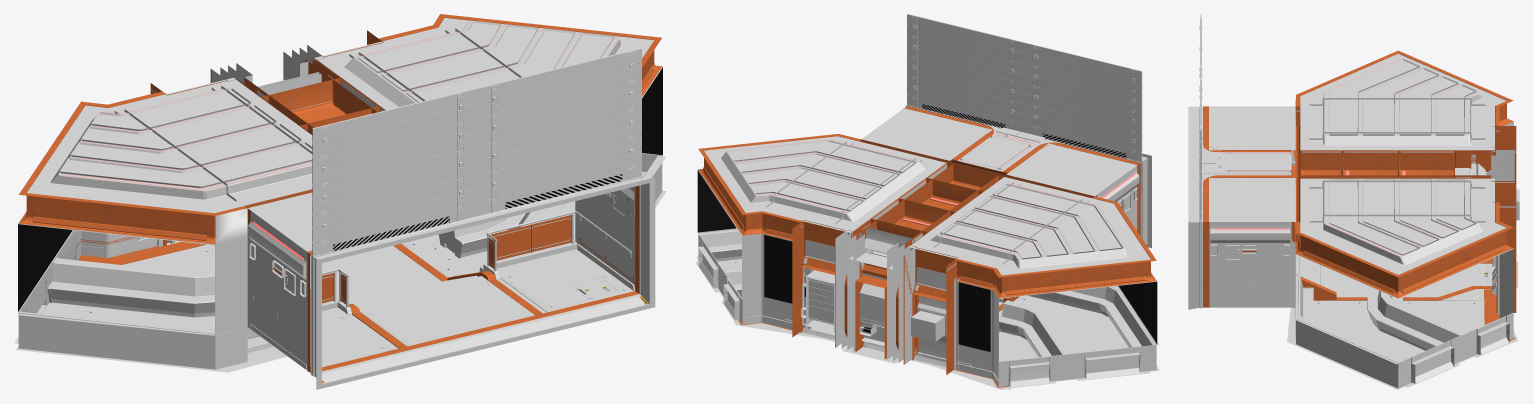
Rendered from lift.fbx.
The picture shows the model from 3 angles, left to right: view 1: azimuth 30°, elevation 25°; view 2: azimuth 150°, elevation 25°; view 3: azimuth 270°, elevation 25°; orthographic projection. The views are drawn at different scales.
Parts seen in each view (by area): view 1: lift_gate, Plane.022, Plane.007, Cube, Plane.065, Plane.021, Plane.010, Cube.004, Plane.078, Plane.004, Plane.008, Cube.013 (+10 smaller); view 2: Plane.022, lift_gate, Plane.007, Cube.004, Cube.007, Cube.003, Plane.065, Plane.077, Plane.080_UV_Mesh_UV_Mesh_UV_Mesh, Plane.010, Plane.078, Cube.027 (+21 smaller); view 3: Plane.022, Plane.007, Plane.065, Cube.004, Plane.010, Cube.012, Plane.021, Cube.027, Cube.007, Plane.052, Plane.008, Cube.013 (+15 smaller).
Part boxes in pixels (<box>): lift_gate: <box>312,48,641,256</box>; Plane.022: <box>27,18,653,213</box>; Plane.007: <box>18,65,662,369</box>; Cube: <box>247,242,634,370</box>; Plane.065: <box>14,190,666,372</box>; Plane.021: <box>313,176,655,389</box>; Plane.010: <box>47,212,530,317</box>; Cube.004: <box>19,14,661,244</box>; Plane.078: <box>18,67,662,311</box>; Plane.004: <box>252,211,631,331</box>; Plane.008: <box>307,185,639,373</box>; Cube.013: <box>269,79,377,129</box>; Plane.022: <box>704,136,1150,275</box>; lift_gate: <box>907,14,1142,162</box>; Plane.007: <box>697,108,1157,386</box>; Cube.004: <box>698,134,1156,297</box>; Cube.007: <box>792,220,957,374</box>; Cube.003: <box>835,230,915,364</box>; Plane.065: <box>695,257,1159,389</box>; Plane.077: <box>764,235,990,351</box>; Plane.080_UV_Mesh_UV_Mesh_UV_Mesh: <box>698,229,1159,359</box>; Plane.010: <box>722,267,1074,357</box>; Plane.078: <box>697,170,1157,343</box>; Cube.027: <box>958,125,1060,171</box>; Plane.022: <box>1300,53,1506,274</box>; Plane.007: <box>1209,100,1513,388</box>; Plane.065: <box>1287,258,1518,389</box>; Cube.004: <box>1296,50,1513,298</box>; Plane.010: <box>1367,290,1465,350</box>; Cube.012: <box>1342,150,1455,178</box>; Plane.021: <box>1188,106,1198,309</box>; Cube.027: <box>1202,145,1291,182</box>; Cube.007: <box>1492,126,1516,312</box>; Plane.052: <box>1209,224,1290,243</box>; Plane.008: <box>1203,106,1291,307</box>; Cube.013: <box>1342,152,1455,177</box>.
Size of the model in its own units: 2007 by 841 by 1224.
